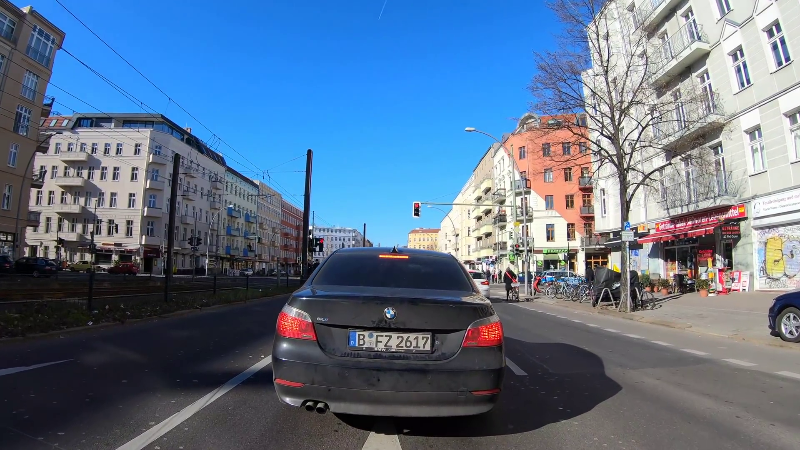Plate: (346, 329, 435, 353)
